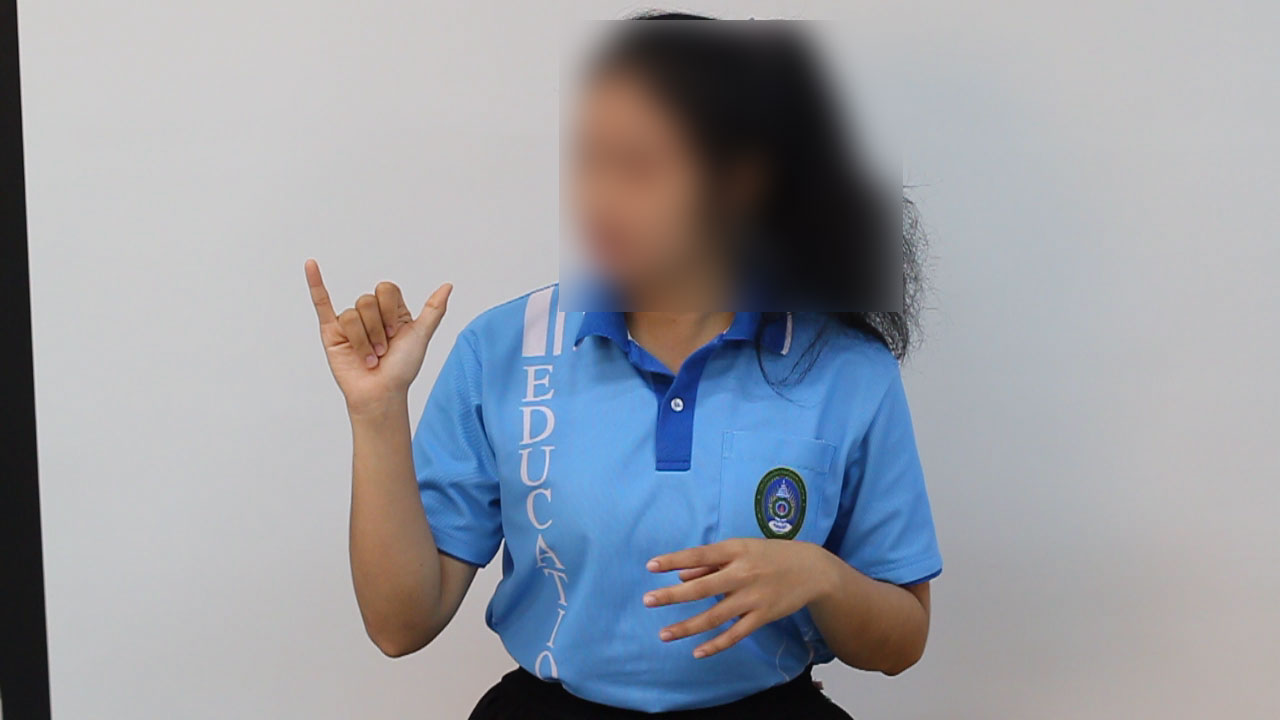yor: (289, 248, 460, 421)
